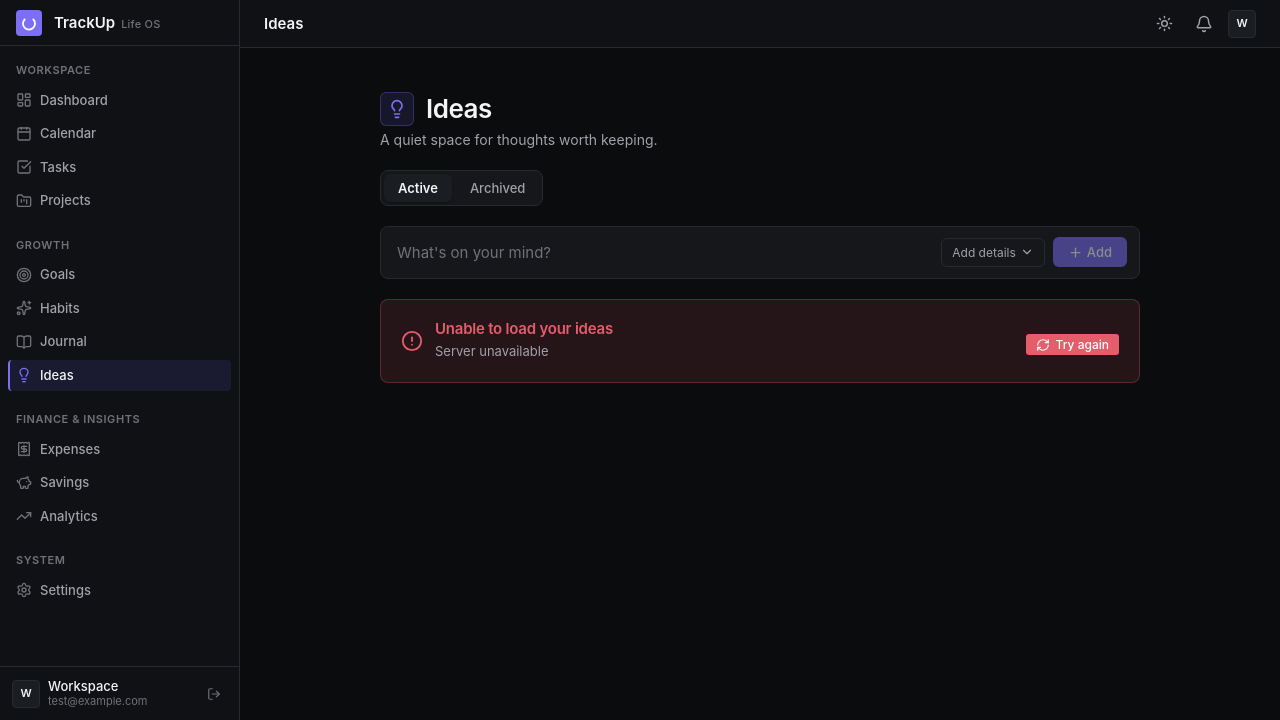
Scenario: Milestone I04: Ideas Frontend Vertical Slice › LOAD › 9. load error displays friendly error state and provides retry
The width and height of the screenshot is (1280, 720).
Check: the heading "Unable to load your ideas" is shown, box [435, 319, 613, 338]
Click the button with aria-label "Retry loading ideas" at [1072, 345], box [1026, 334, 1119, 355]
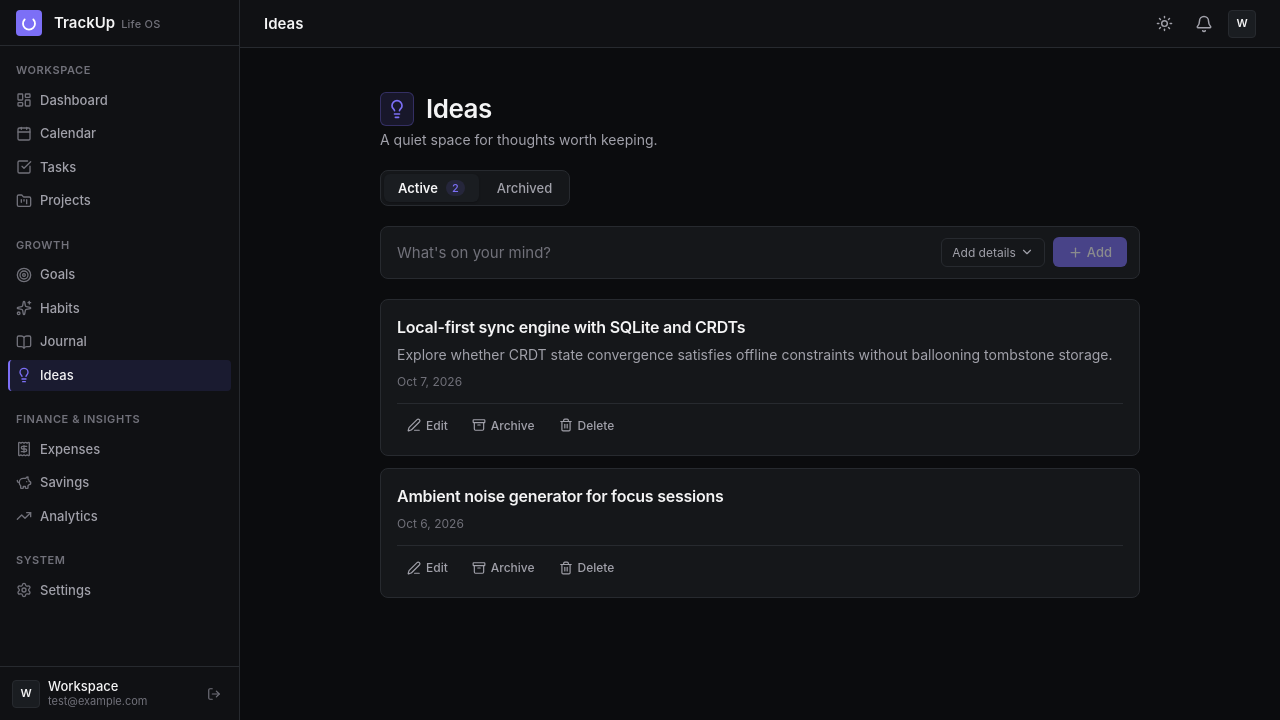
Check: the heading "Local-first sync engine with SQLite and CRDTs" is shown, box [397, 317, 745, 337]
